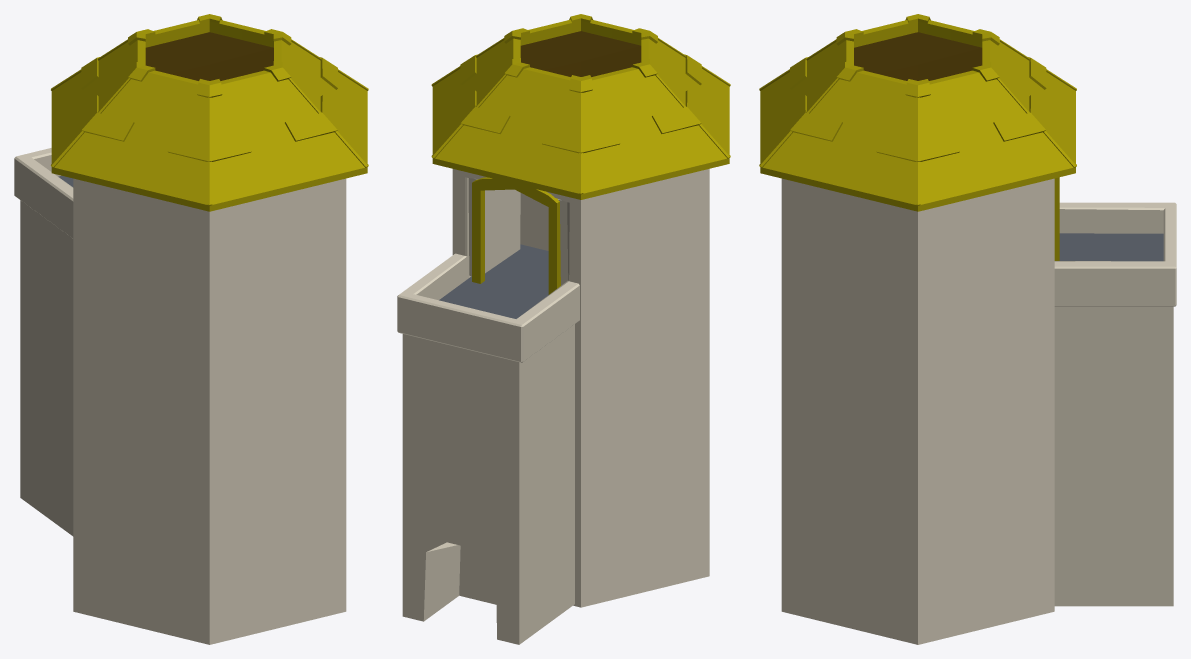
File: Castle_Gate.fbx
The picture shows the model from 3 angles, left to right: view 1: azimuth 30°, elevation 25°; view 2: azimuth 150°, elevation 25°; view 3: azimuth 270°, elevation 25°; orthographic projection. The views are drawn at different scales.
Visible parts, largest first — view 1: pCylinder2; view 2: pCylinder2; view 3: pCylinder2.
Part boxes in pixels (box(x1,y1,x2,y2)): pCylinder2: box(14, 14, 368, 644); pCylinder2: box(397, 14, 730, 644); pCylinder2: box(759, 14, 1176, 644).
Size of the model in its own units: 537 by 854 by 611.
